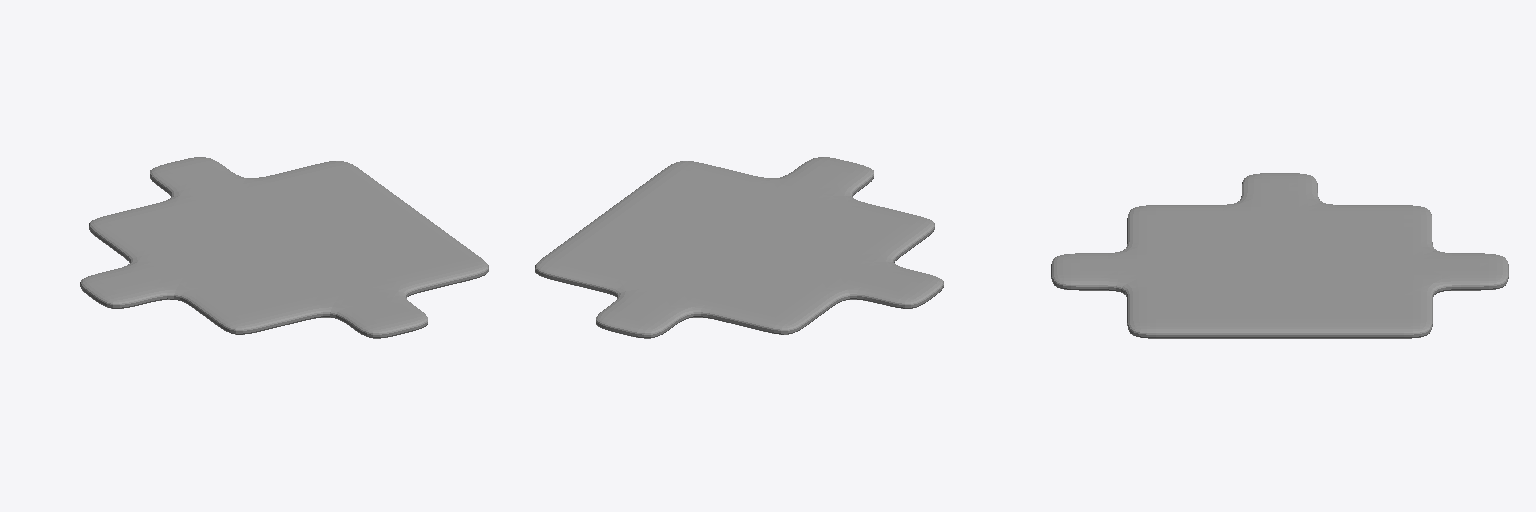
The picture shows the model from 3 angles: view 1: azimuth 30°, elevation 25°; view 2: azimuth 150°, elevation 25°; view 3: azimuth 270°, elevation 25°; orthographic projection.
Visible parts, largest first — view 1: Puzzle.009_Puzzle.009_GoldenEggMaterial; view 2: Puzzle.009_Puzzle.009_GoldenEggMaterial; view 3: Puzzle.009_Puzzle.009_GoldenEggMaterial.
Boxes of the visible parts, box(x1,y1,x2,y2) form: Puzzle.009_Puzzle.009_GoldenEggMaterial: box(80, 157, 488, 338); Puzzle.009_Puzzle.009_GoldenEggMaterial: box(535, 157, 943, 338); Puzzle.009_Puzzle.009_GoldenEggMaterial: box(1051, 173, 1508, 338).
Size of the model in its own units: 0.3125 by 0.0092 by 0.3762.